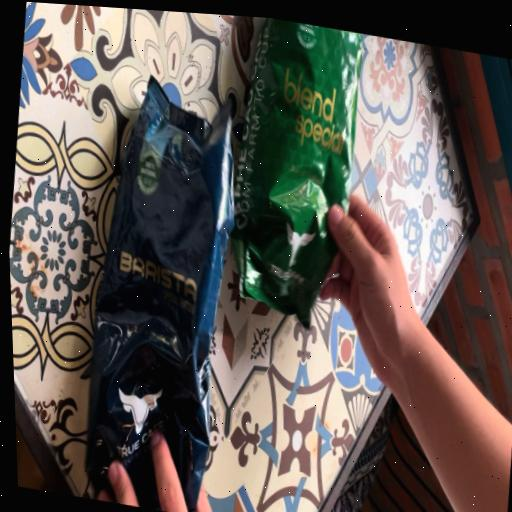cafe_hat: (86, 78, 232, 512)
cafe_xay: (231, 18, 362, 326), (231, 18, 361, 325)
